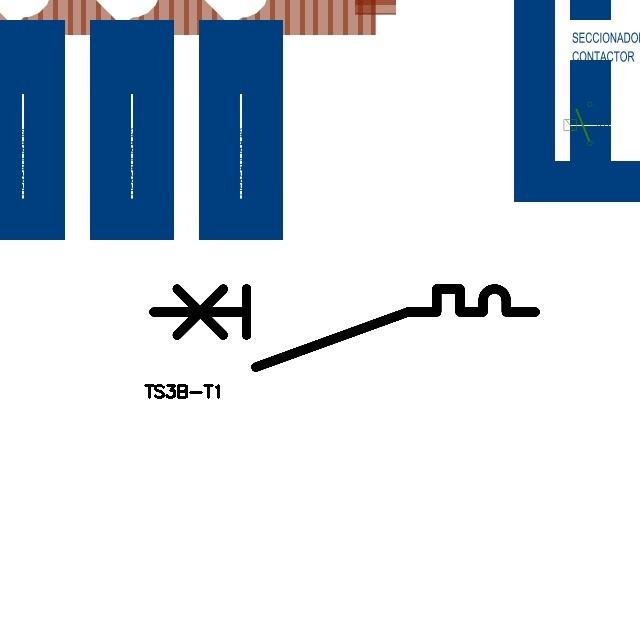interruptor_termomagnetico: (144, 279, 545, 377)
